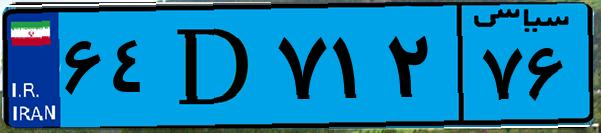1: (330, 28, 385, 110)
2: (385, 28, 445, 110)
4: (110, 28, 158, 98)
6: (57, 26, 110, 100), (525, 38, 570, 115)
7: (270, 28, 330, 110), (475, 38, 525, 113)
D: (158, 12, 270, 120)
